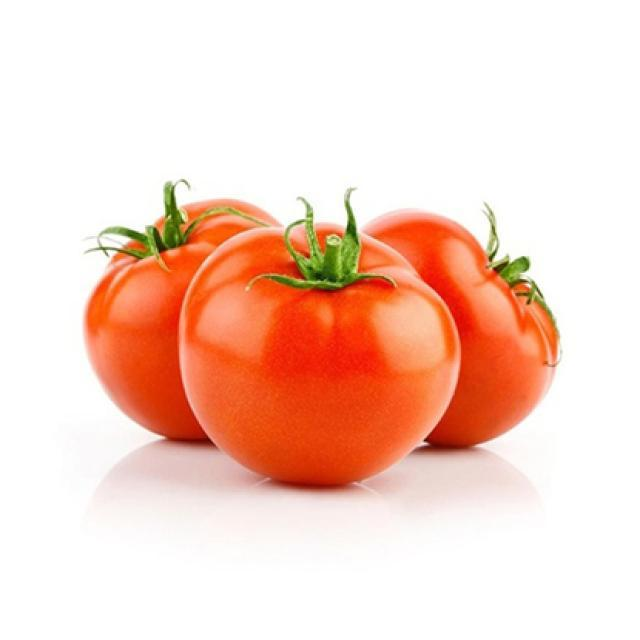kirmizi: (76, 174, 562, 492)
